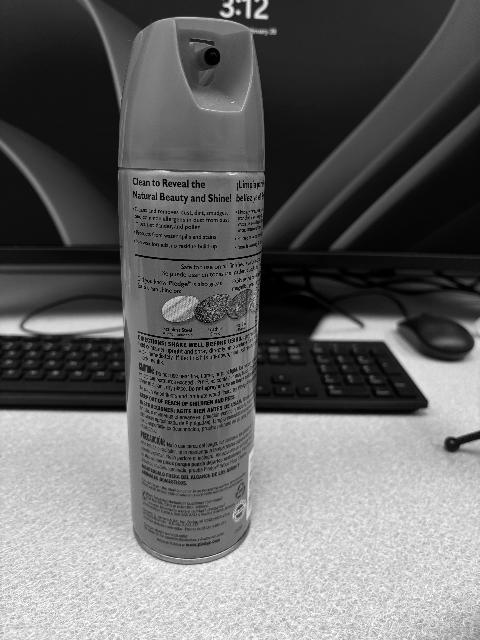Pledge: (117, 17, 265, 566), (118, 17, 266, 566)
